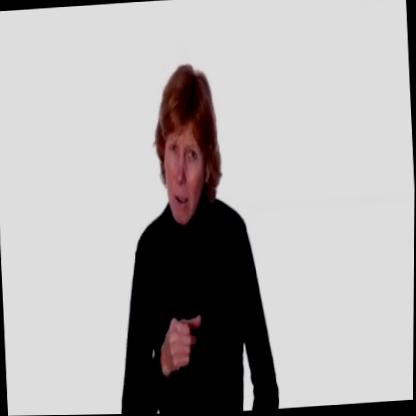HowAreYou: (165, 297, 236, 414)
